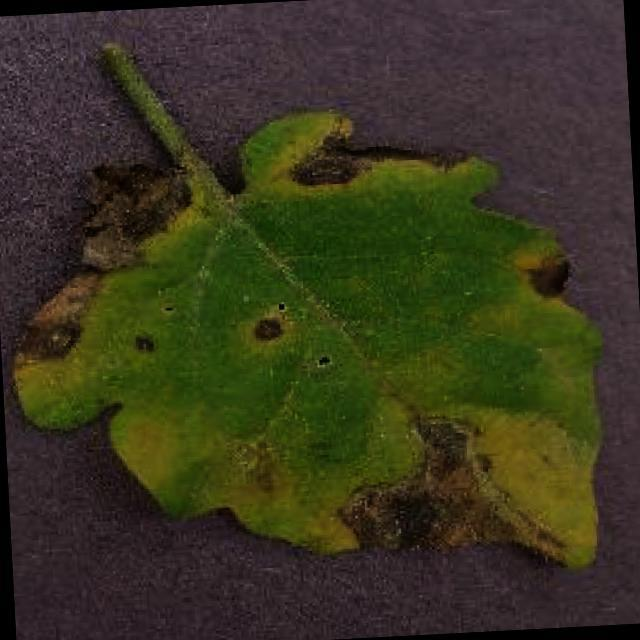Tomato Septoria spot leaf: (0, 99, 610, 606)
